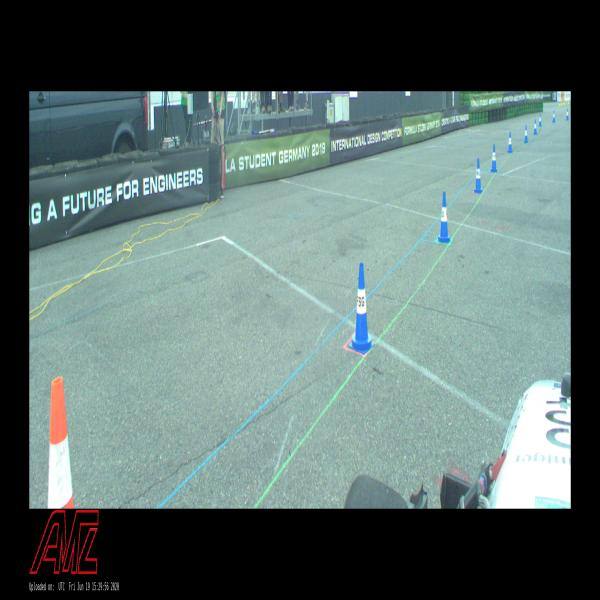blue_cone: (349, 263, 374, 353), (438, 192, 450, 242), (474, 158, 483, 192), (490, 145, 498, 171), (508, 132, 512, 152), (524, 125, 528, 143), (533, 120, 537, 134), (539, 114, 542, 126), (553, 110, 555, 122), (566, 109, 568, 120)
orange_cone: (47, 377, 75, 507)
yellow_cone: (559, 100, 560, 106), (561, 100, 562, 105), (563, 100, 564, 104), (564, 100, 565, 104)
